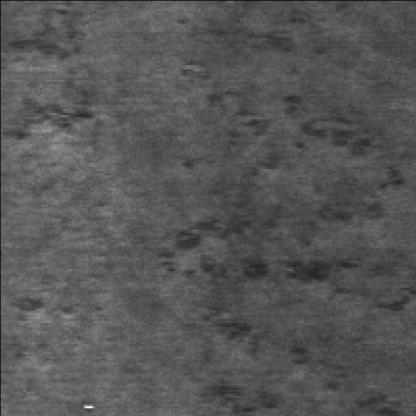rolled-in_scale: (162, 193, 416, 348), (181, 79, 412, 243), (202, 310, 351, 414), (6, 6, 102, 150)
